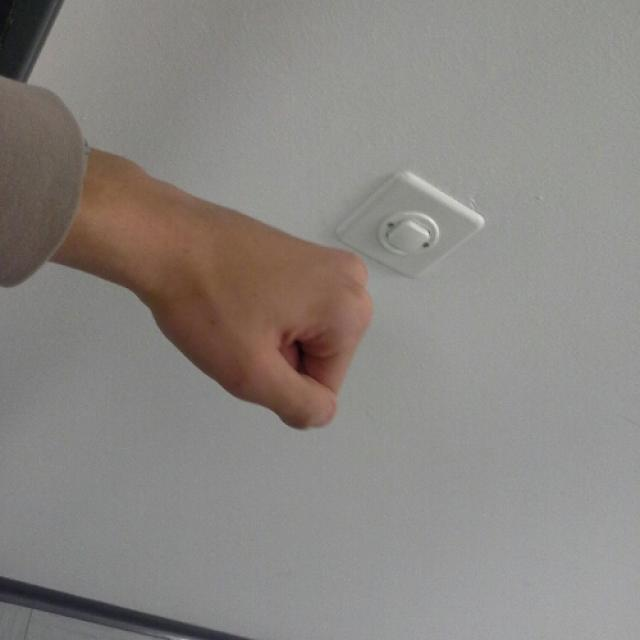rock: (158, 184, 368, 430)
